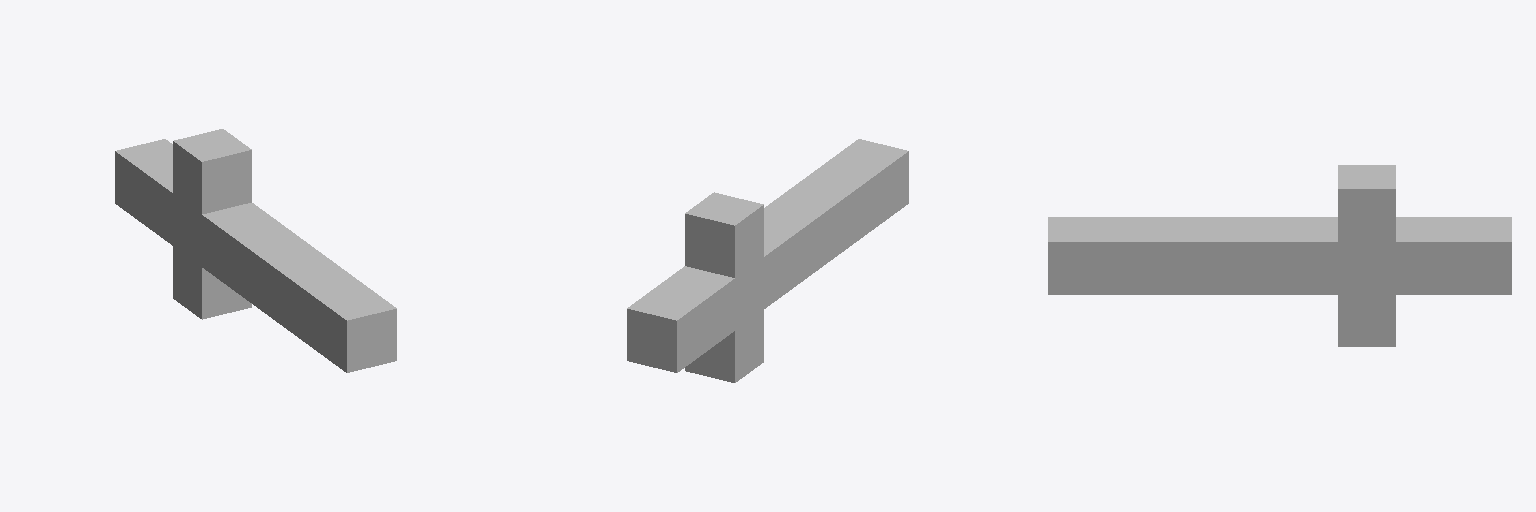
File: mech k.obj
3 renders of one model, left to right at view 1: azimuth 30°, elevation 25°; view 2: azimuth 150°, elevation 25°; view 3: azimuth 270°, elevation 25°, orthographic.
Size of the model in its own units: 1 by 3 by 8.